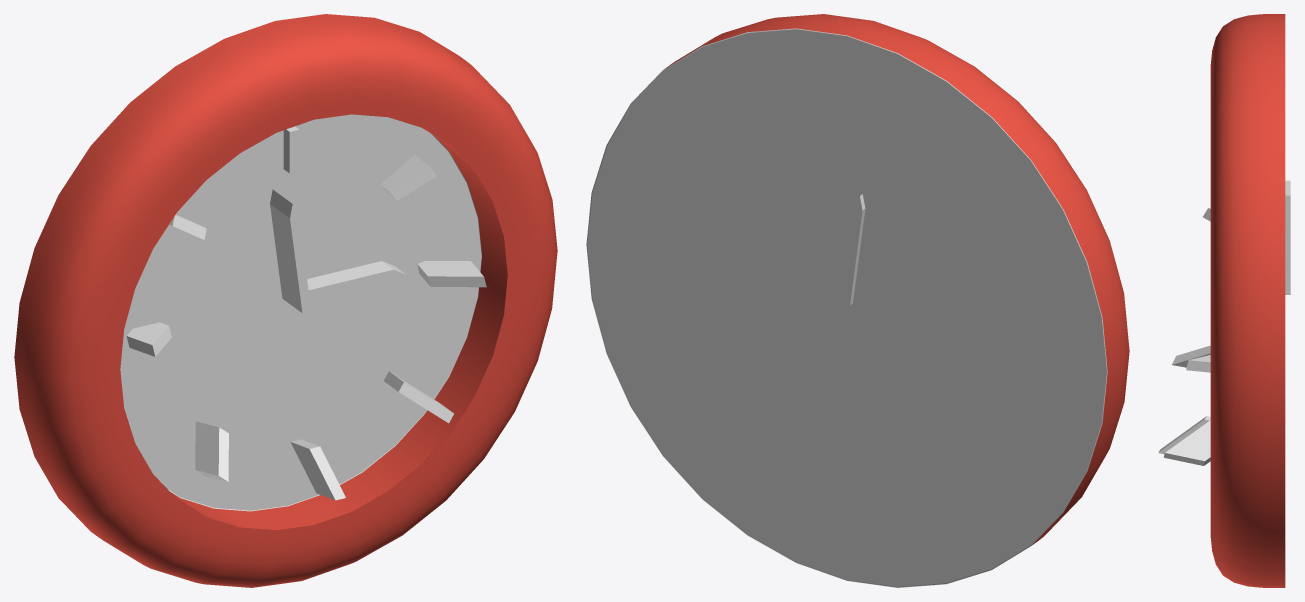
The model's file is Reloj.fbx.
3 renders of one model, left to right at view 1: azimuth 30°, elevation 25°; view 2: azimuth 150°, elevation 25°; view 3: azimuth 270°, elevation 25°, orthographic. The views are drawn at different scales.
Parts seen in each view (by area): view 1: Reloj, Cubo.009, Cubo.008, Cubo.005, Cubo.004, Cubo.002, Cubo.001, Cubo.006, Cubo.003, Cubo; view 2: Reloj, Cubo.009; view 3: Reloj, Cubo.003, Cubo.009, Cubo.005, Cubo.004, Cubo.002.
Part boxes in pixels (box(x1,y1,x2,y2)): Reloj: box(14, 14, 557, 587); Cubo.009: box(270, 189, 311, 313); Cubo.008: box(307, 261, 406, 305); Cubo.005: box(195, 421, 228, 481); Cubo.004: box(290, 439, 345, 500); Cubo.002: box(417, 261, 486, 287); Cubo.001: box(381, 155, 436, 200); Cubo.006: box(126, 322, 171, 356); Cubo.003: box(384, 371, 453, 423); Cubo: box(283, 126, 299, 173); Reloj: box(586, 14, 1129, 587); Cubo.009: box(841, 194, 865, 305); Reloj: box(1210, 14, 1285, 587); Cubo.003: box(1163, 420, 1210, 465); Cubo.009: box(1285, 180, 1290, 294); Cubo.005: box(1171, 345, 1210, 367); Cubo.004: box(1158, 416, 1210, 454); Cubo.002: box(1186, 355, 1210, 372).
Bounding box in the file's own units: 7.97 × 7.97 × 1.84.
